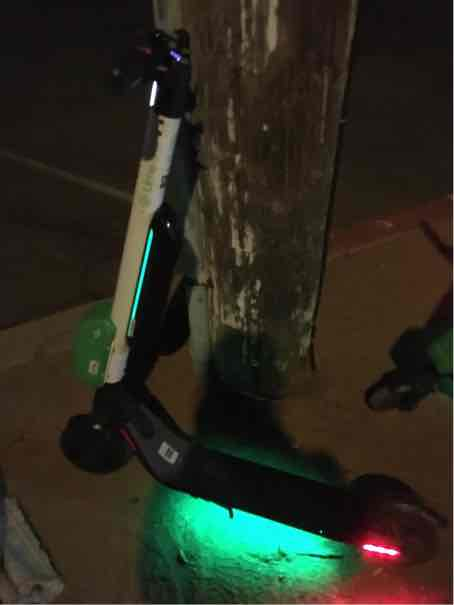scooter: (69, 15, 451, 573)
